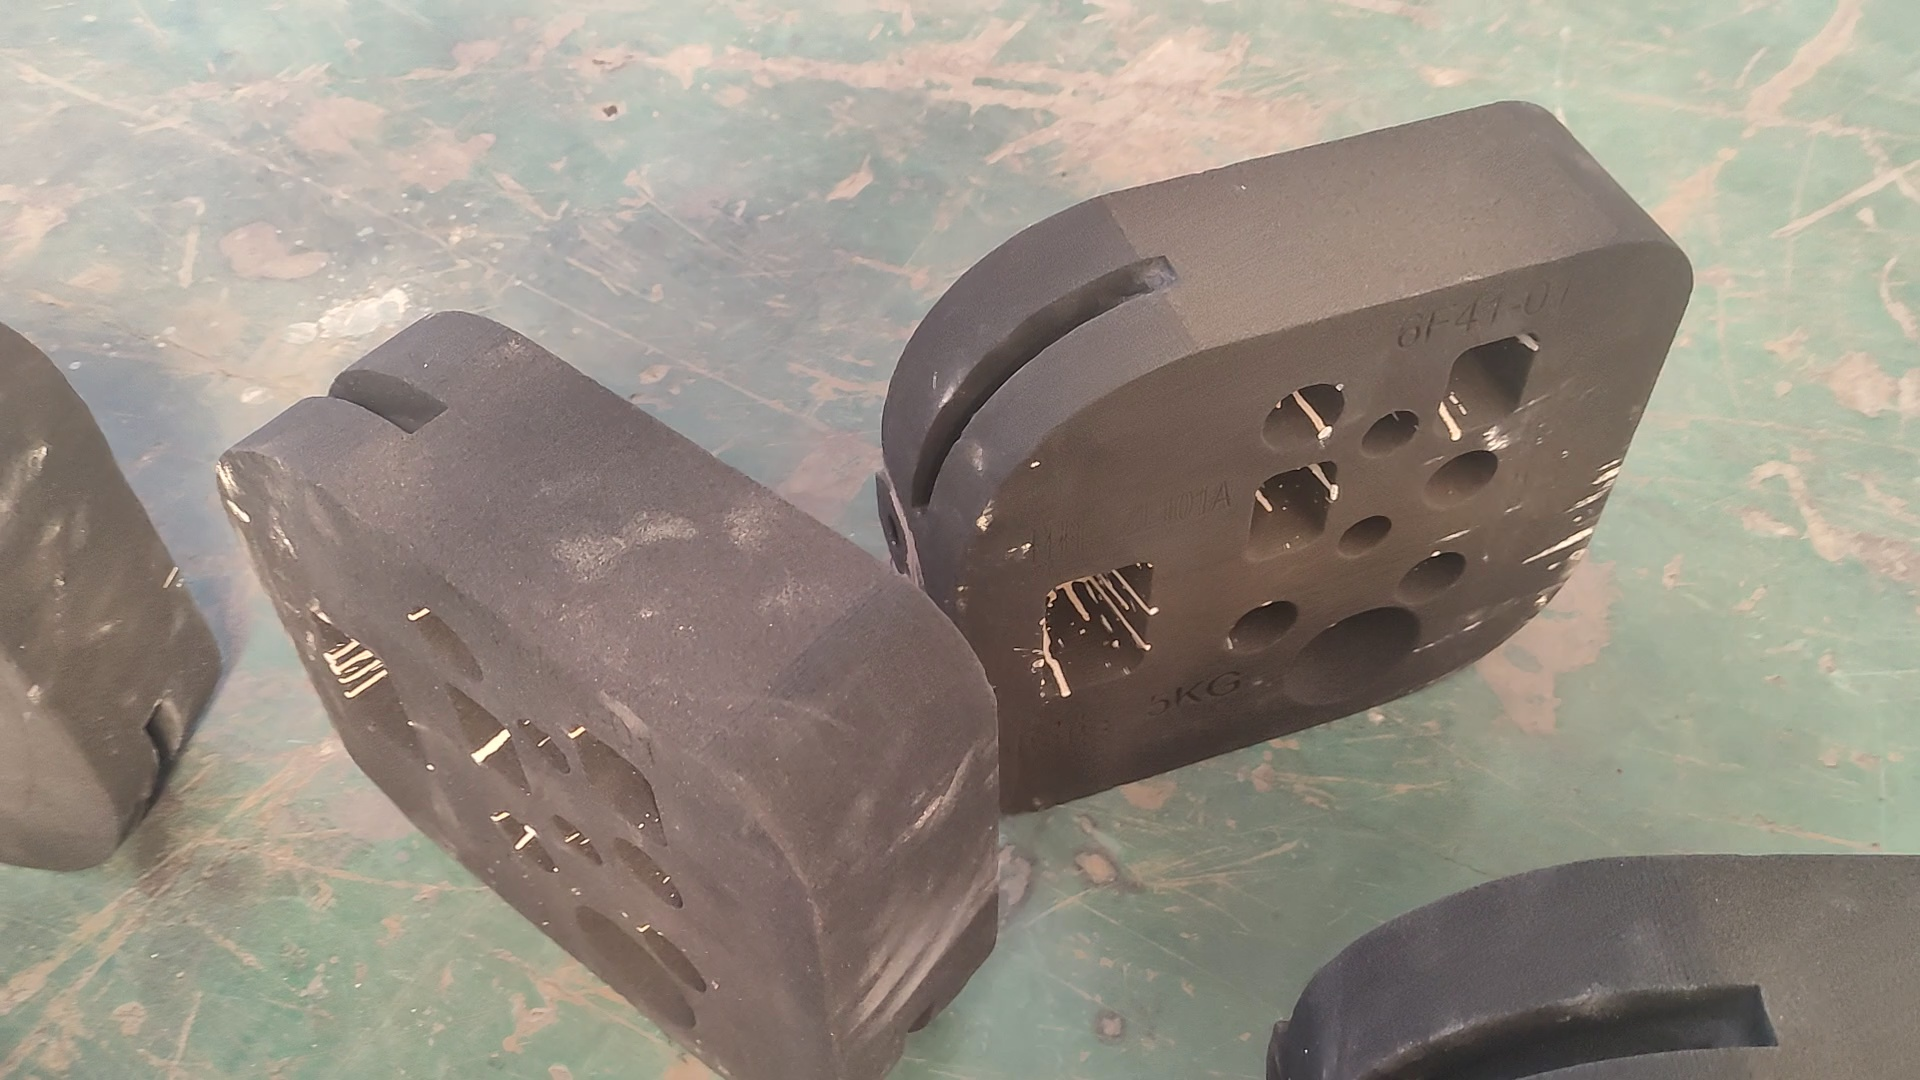pouring hole: (568, 903, 698, 1033), (1282, 607, 1422, 705)
